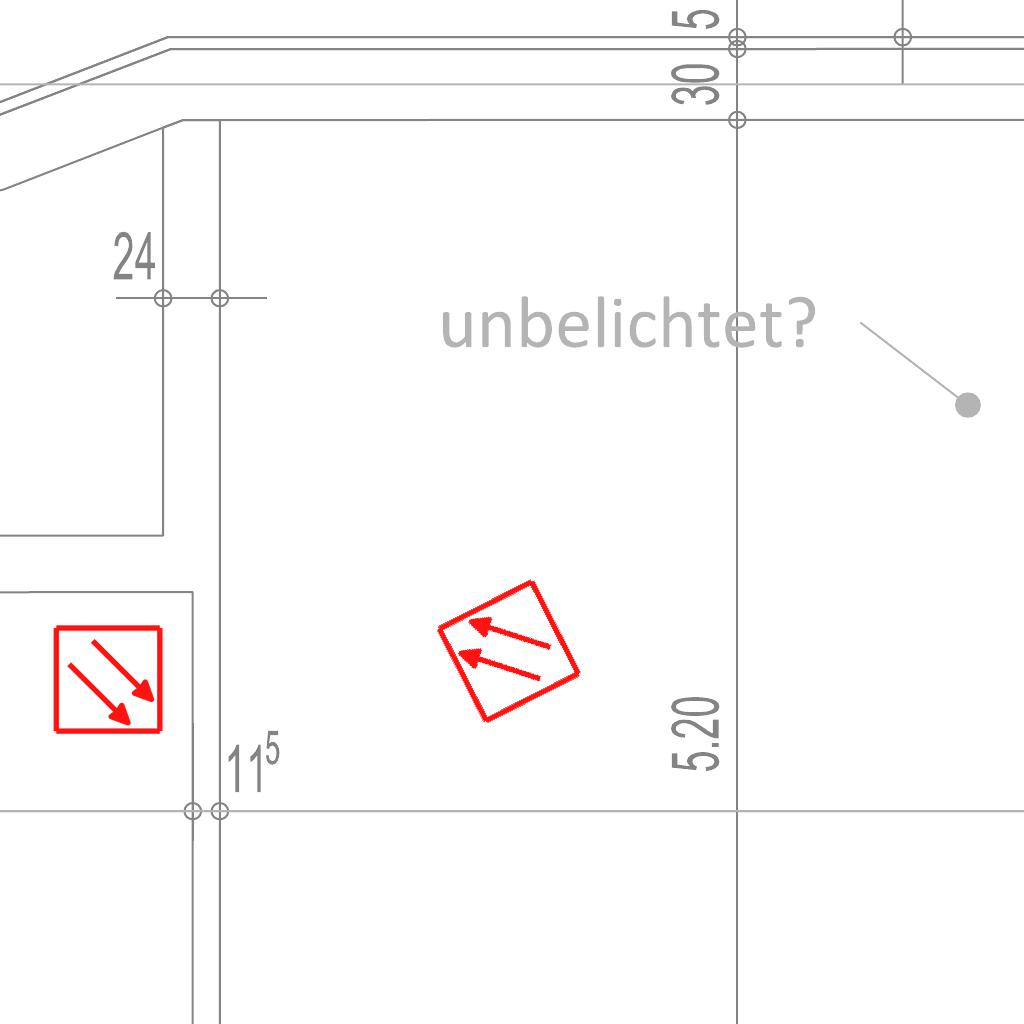RMO_Rauchmelder_optischer: (432, 575, 585, 728), (52, 623, 165, 736)
